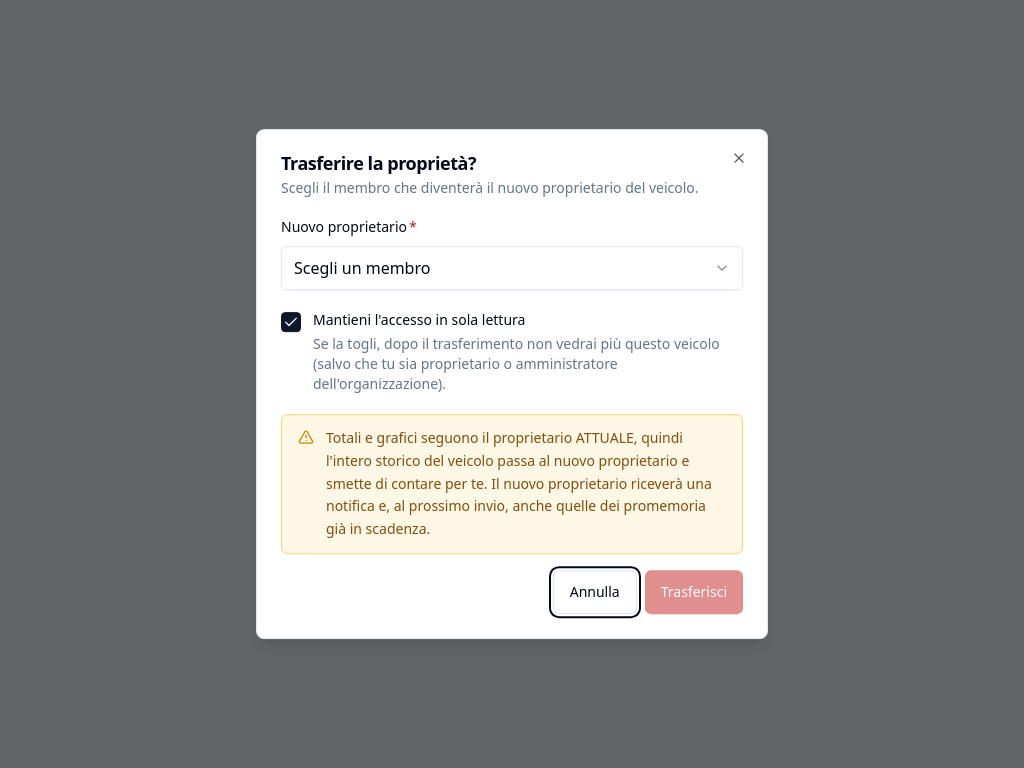
Scenario: TransferVehicleDialog › elenca i candidati per nome, keepAccess è selezionato di default e il submit parte disattivato
Expected: the checkbox labelled "Mantieni l'accesso in sola lettura" is checked, [281,312,301,332]
Expected: the button "Trasferisci" is disabled, [645,570,743,614]
Click the dropdown named "Nuovo proprietario". click: (362, 268)
box: [281,246,743,290]
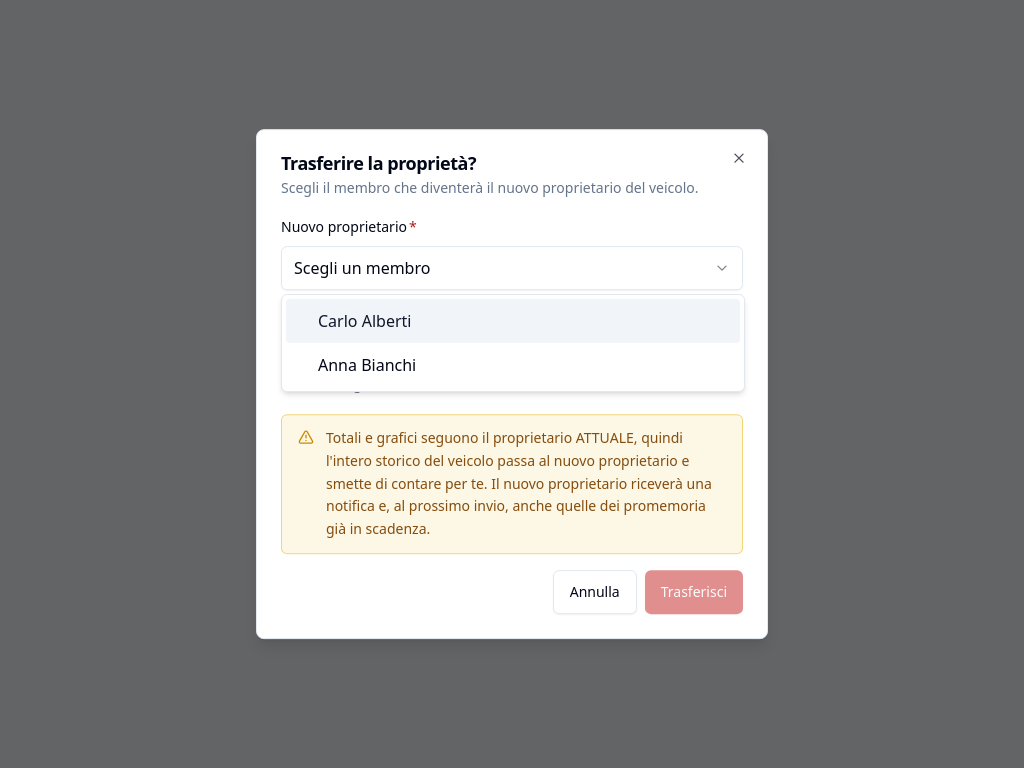
Result: the options read "Carlo Alberti", "Anna Bianchi", in this order at [286,299,740,343]; [318,354,416,376]
